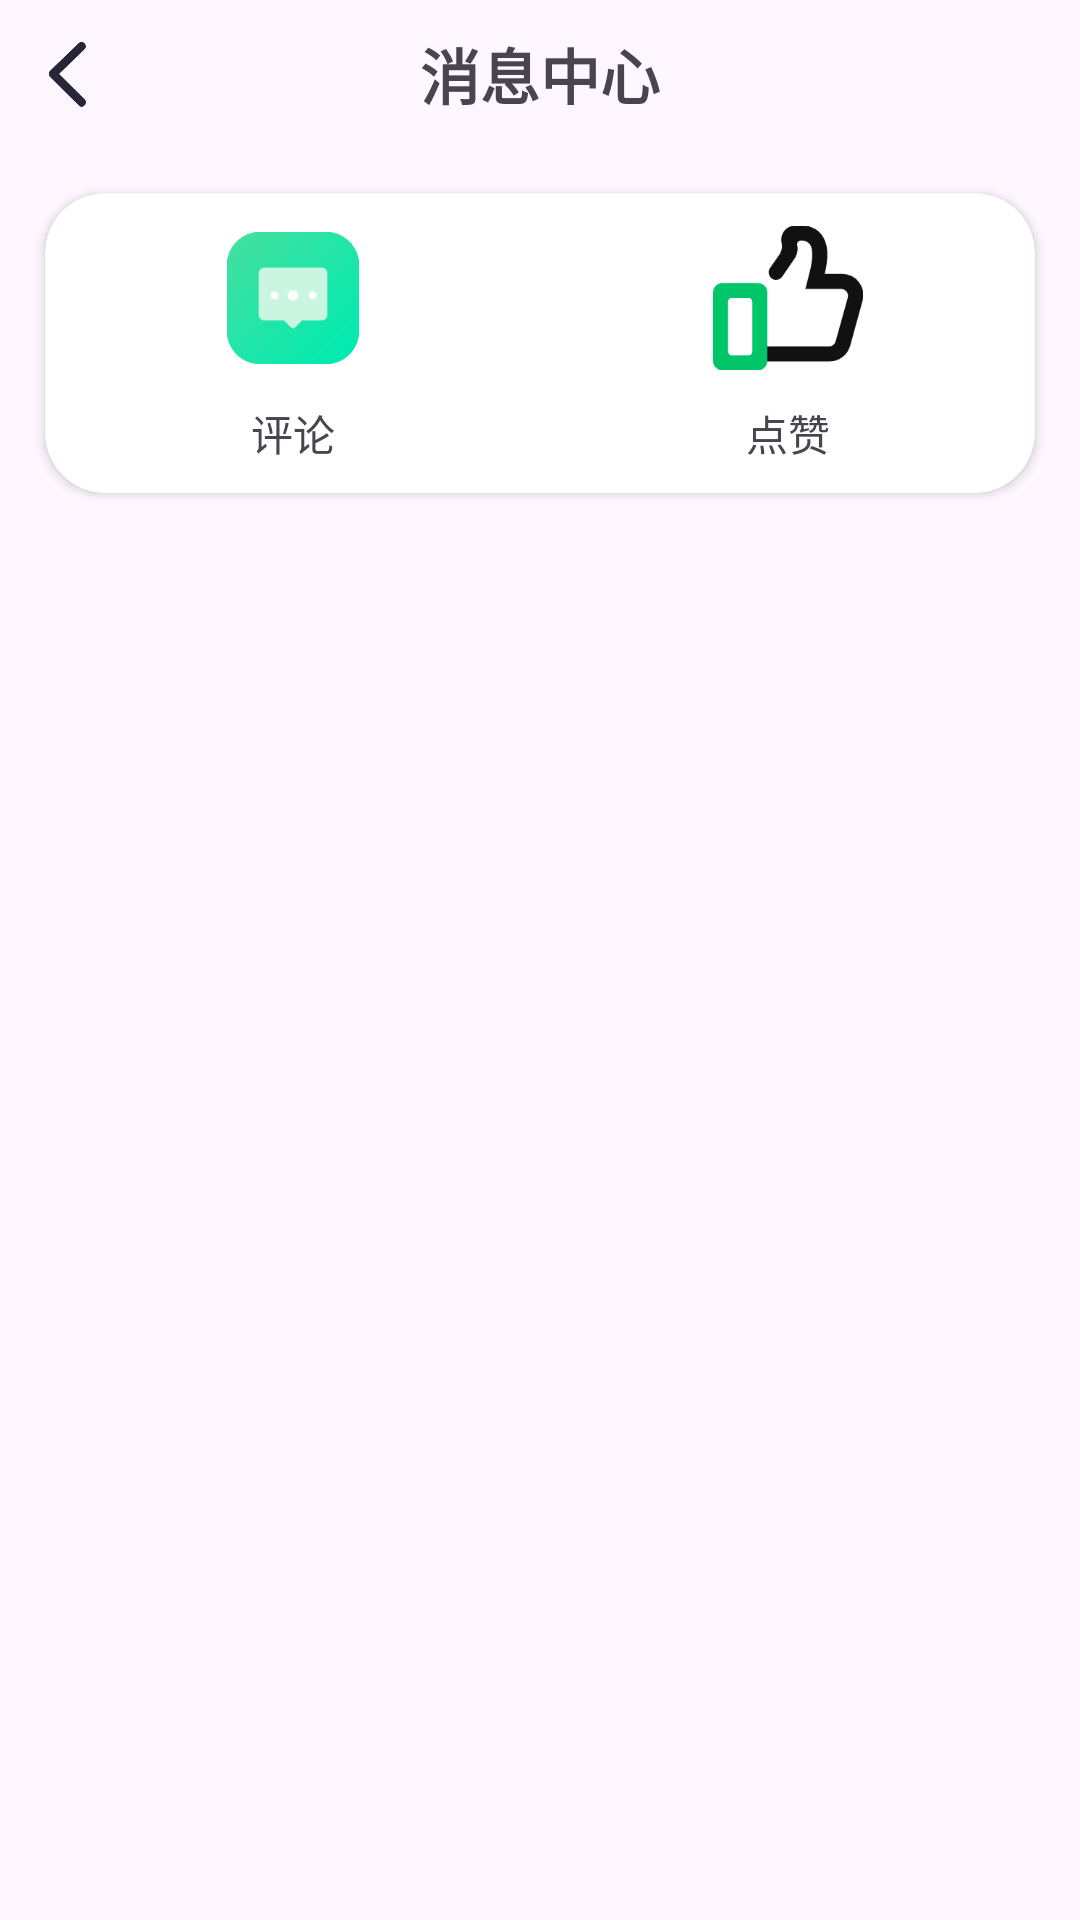

Where to tap for icons on this 1080 x 1920 app screen, as point (x, y):
arrow left: point (67, 74)
comment colorful: point (293, 298)
like colorful: point (788, 298)
